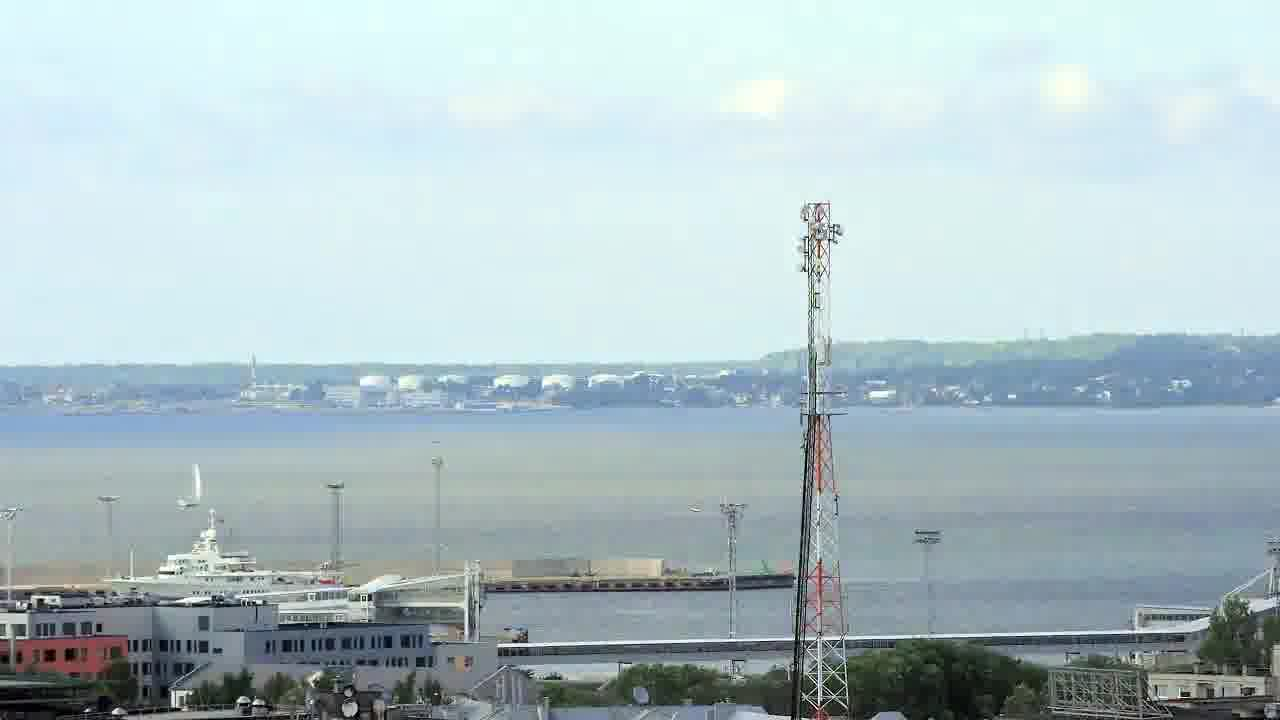type-2: (170, 446, 220, 522)
type-3: (84, 515, 355, 603)
